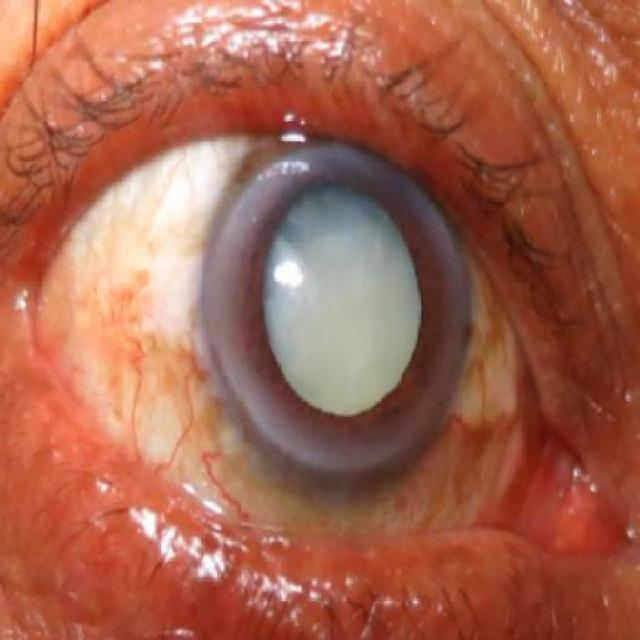Cataract: (200, 139, 474, 485)
